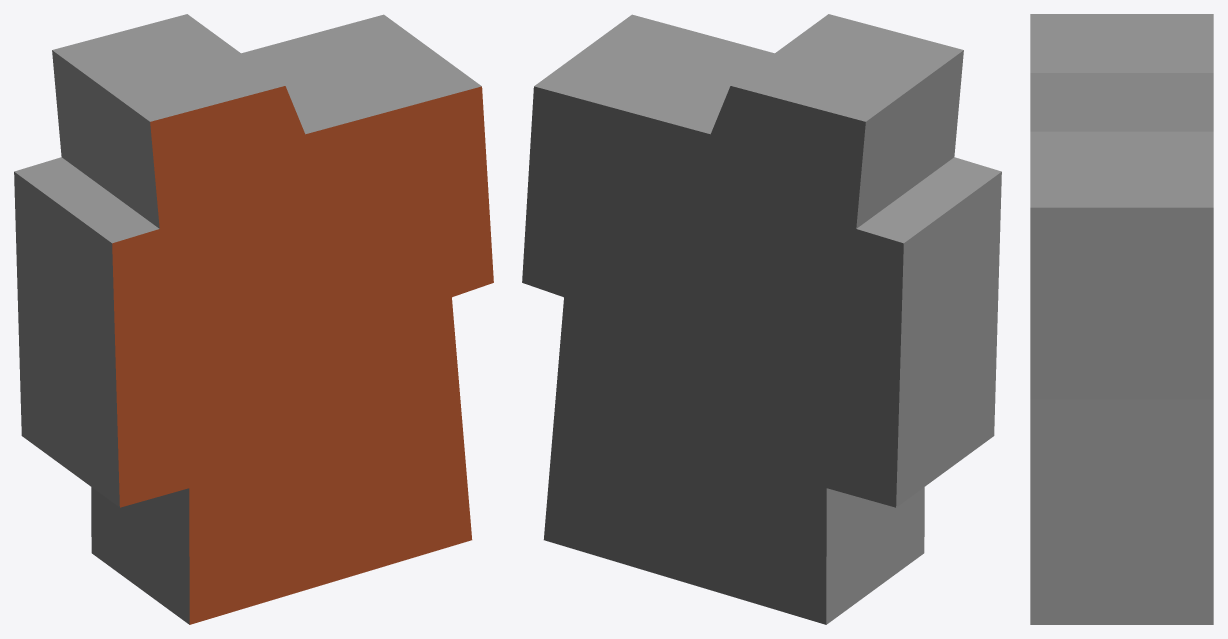
Rendered from construction_3938_assumed_A_Casa_h6m.obj.
The picture shows the model from 3 angles, left to right: view 1: azimuth 30°, elevation 25°; view 2: azimuth 150°, elevation 25°; view 3: azimuth 270°, elevation 25°; orthographic projection. The views are drawn at different scales.
Parts seen in each view (by area): view 1: construction_3938_assumed_A_Casa; view 2: construction_3938_assumed_A_Casa; view 3: construction_3938_assumed_A_Casa.
Part boxes in pixels (x1,y1,x2,y2): construction_3938_assumed_A_Casa: (14, 14, 493, 624); construction_3938_assumed_A_Casa: (522, 14, 1001, 624); construction_3938_assumed_A_Casa: (1030, 14, 1213, 624).
Size of the model in its own units: 13.48 by 17.4 by 6.
